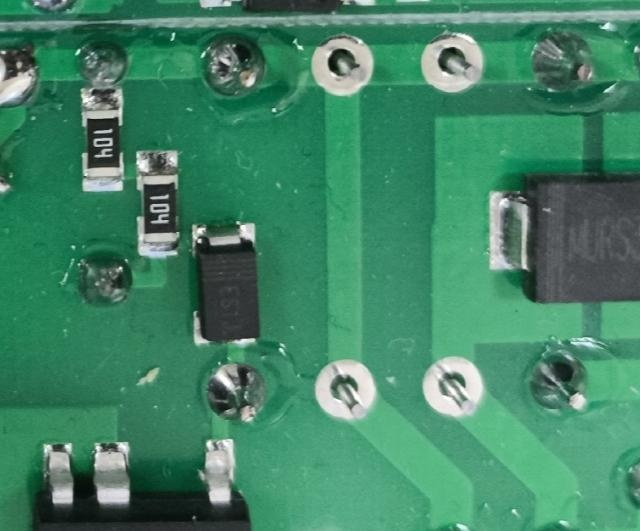chip-resistor: (80, 86, 125, 194), (136, 149, 180, 258)
diode: (486, 169, 640, 307), (189, 221, 260, 347)
ic: (30, 434, 252, 531)
